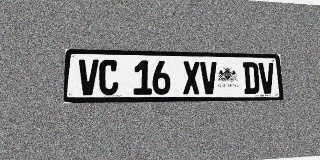1: (133, 60, 152, 95)
6: (152, 61, 171, 95)
C: (99, 60, 118, 95)
D: (243, 62, 260, 94)
V: (78, 59, 99, 95), (200, 61, 218, 94), (258, 62, 275, 94)
X: (183, 61, 200, 94)
